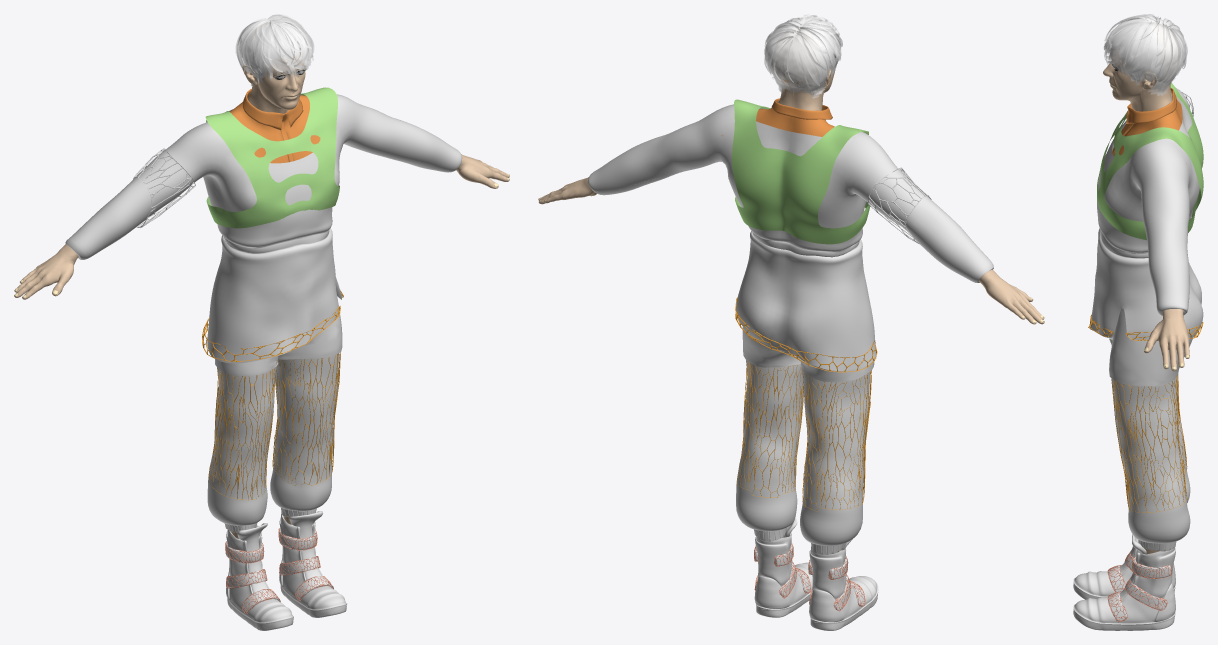
The model's file is ProfPhoto.fbx.
3 views of the same model, side by side, from view 1: azimuth 30°, elevation 25°; view 2: azimuth 150°, elevation 25°; view 3: azimuth 270°, elevation 25° (orthographic). The views are drawn at different scales.
Visible parts, largest first — view 1: Haut, Pants, Gelatine haut de corps, Shoes, Gelatine pants, Body, Hair, Chemise, Boxers, Gelatine haut, Gelatine haut.001; view 2: Haut, Pants, Gelatine haut de corps, Shoes, Gelatine pants, Hair, Body, Boxers, Chemise, Gelatine haut.001, Gelatine haut; view 3: Haut, Pants, Shoes, Hair, Body, Gelatine haut de corps, Gelatine pants, Boxers, Chemise, Gelatine haut.001.
Part boxes in pixels (x1,y1,x2,y2): Haut: (65, 94, 462, 363); Pants: (207, 353, 339, 532); Gelatine haut de corps: (205, 87, 339, 228); Shoes: (225, 511, 347, 630); Gelatine pants: (208, 352, 340, 500); Body: (14, 55, 509, 538); Hair: (235, 14, 314, 85); Chemise: (230, 88, 320, 163); Boxers: (215, 299, 342, 376); Gelatine haut: (133, 148, 195, 227); Gelatine haut.001: (202, 290, 343, 361); Haut: (588, 104, 993, 370); Pants: (736, 360, 870, 554); Gelatine haut de corps: (732, 99, 870, 244); Shoes: (754, 518, 878, 630); Gelatine pants: (736, 361, 871, 511); Hair: (764, 14, 842, 98); Body: (538, 55, 1044, 550); Boxers: (742, 327, 874, 382); Chemise: (756, 98, 834, 136); Gelatine haut.001: (735, 297, 877, 372); Gelatine haut: (867, 167, 931, 243); Haut: (1090, 87, 1203, 340); Pants: (1111, 344, 1190, 551); Shoes: (1073, 534, 1175, 630); Hair: (1103, 14, 1187, 95); Body: (1103, 46, 1189, 554); Gelatine haut de corps: (1097, 83, 1203, 240); Gelatine pants: (1111, 344, 1187, 512); Boxers: (1109, 308, 1193, 386); Chemise: (1112, 88, 1182, 156); Gelatine haut.001: (1088, 314, 1203, 340).
Size of the model in its own units: 169 by 191 by 37.91.
